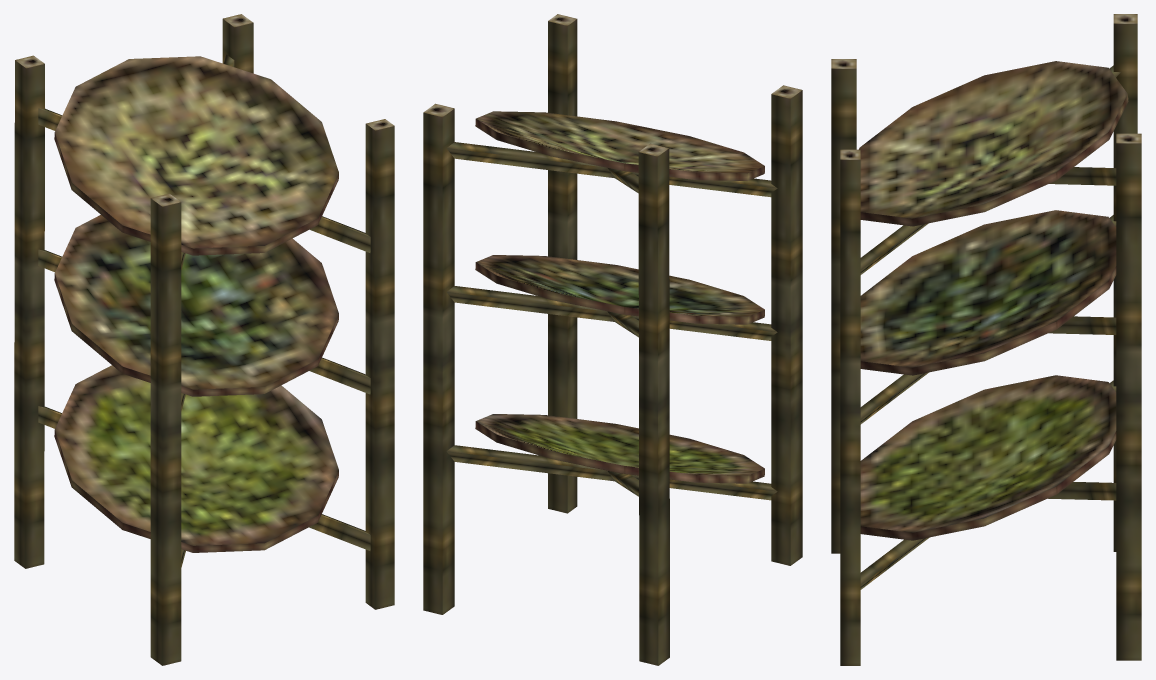
3 views of the same model, side by side, from view 1: azimuth 30°, elevation 25°; view 2: azimuth 150°, elevation 25°; view 3: azimuth 270°, elevation 25° (orthographic). The views are drawn at different scales.
Visible parts, largest first — view 1: ZW_yc; view 2: ZW_yc; view 3: ZW_yc.
Part boxes in pixels (<box>): ZW_yc: <box>14,14,394,665</box>; ZW_yc: <box>423,14,802,665</box>; ZW_yc: <box>831,14,1141,665</box>.
Size of the model in its own units: 77.48 by 145 by 77.39.
